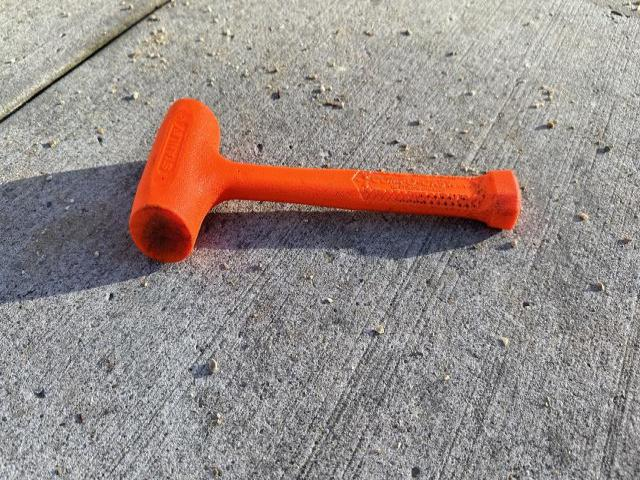hammer: (129, 98, 519, 263)
